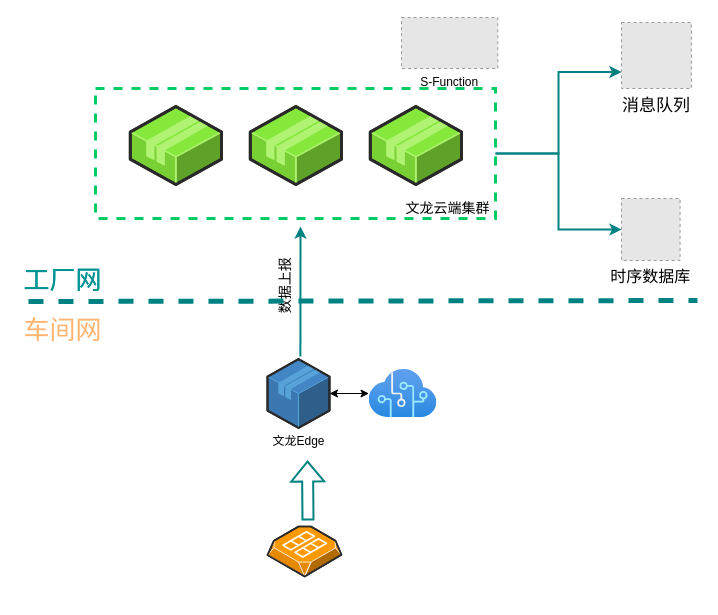
Image size: 718x615. Some labels were removed from this diagram. Grey dashed boxes stand in for pictures. The box of each missing label's shape, as (x1, y1, x2, y2) in pixels:
OPC: (266, 526, 342, 576)
清洗规则: (368, 369, 436, 417)
